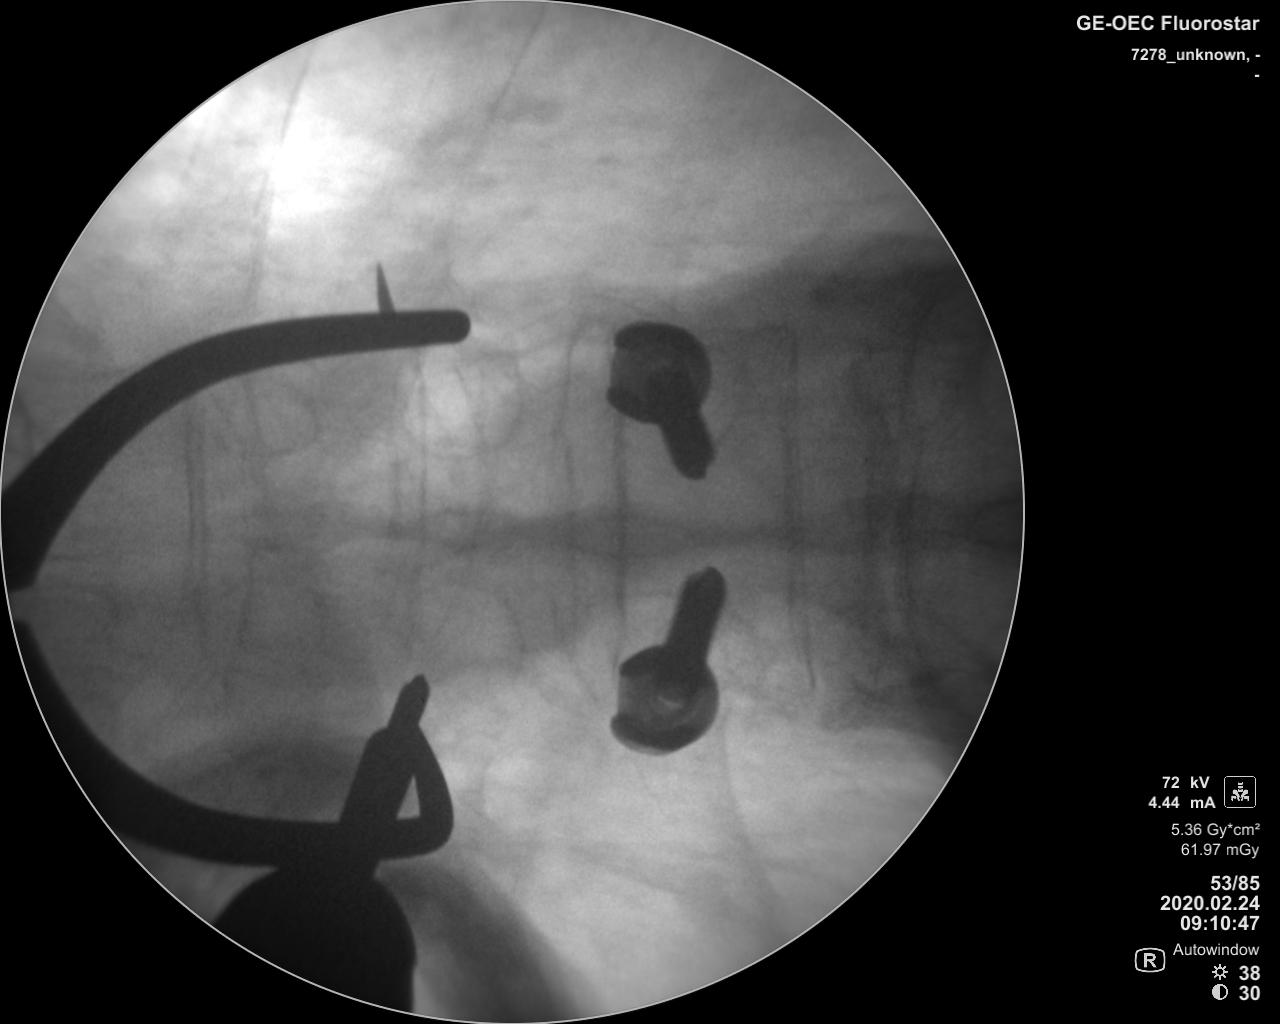eyes: (394, 349, 527, 458), (413, 576, 525, 671), (215, 581, 329, 666), (213, 386, 326, 457)
line: (770, 342, 815, 669), (387, 358, 428, 656), (545, 348, 583, 654), (227, 387, 259, 653), (174, 408, 207, 650), (610, 414, 629, 658)
nose: (792, 484, 959, 553), (212, 491, 385, 552), (533, 498, 698, 560), (386, 493, 520, 560)
